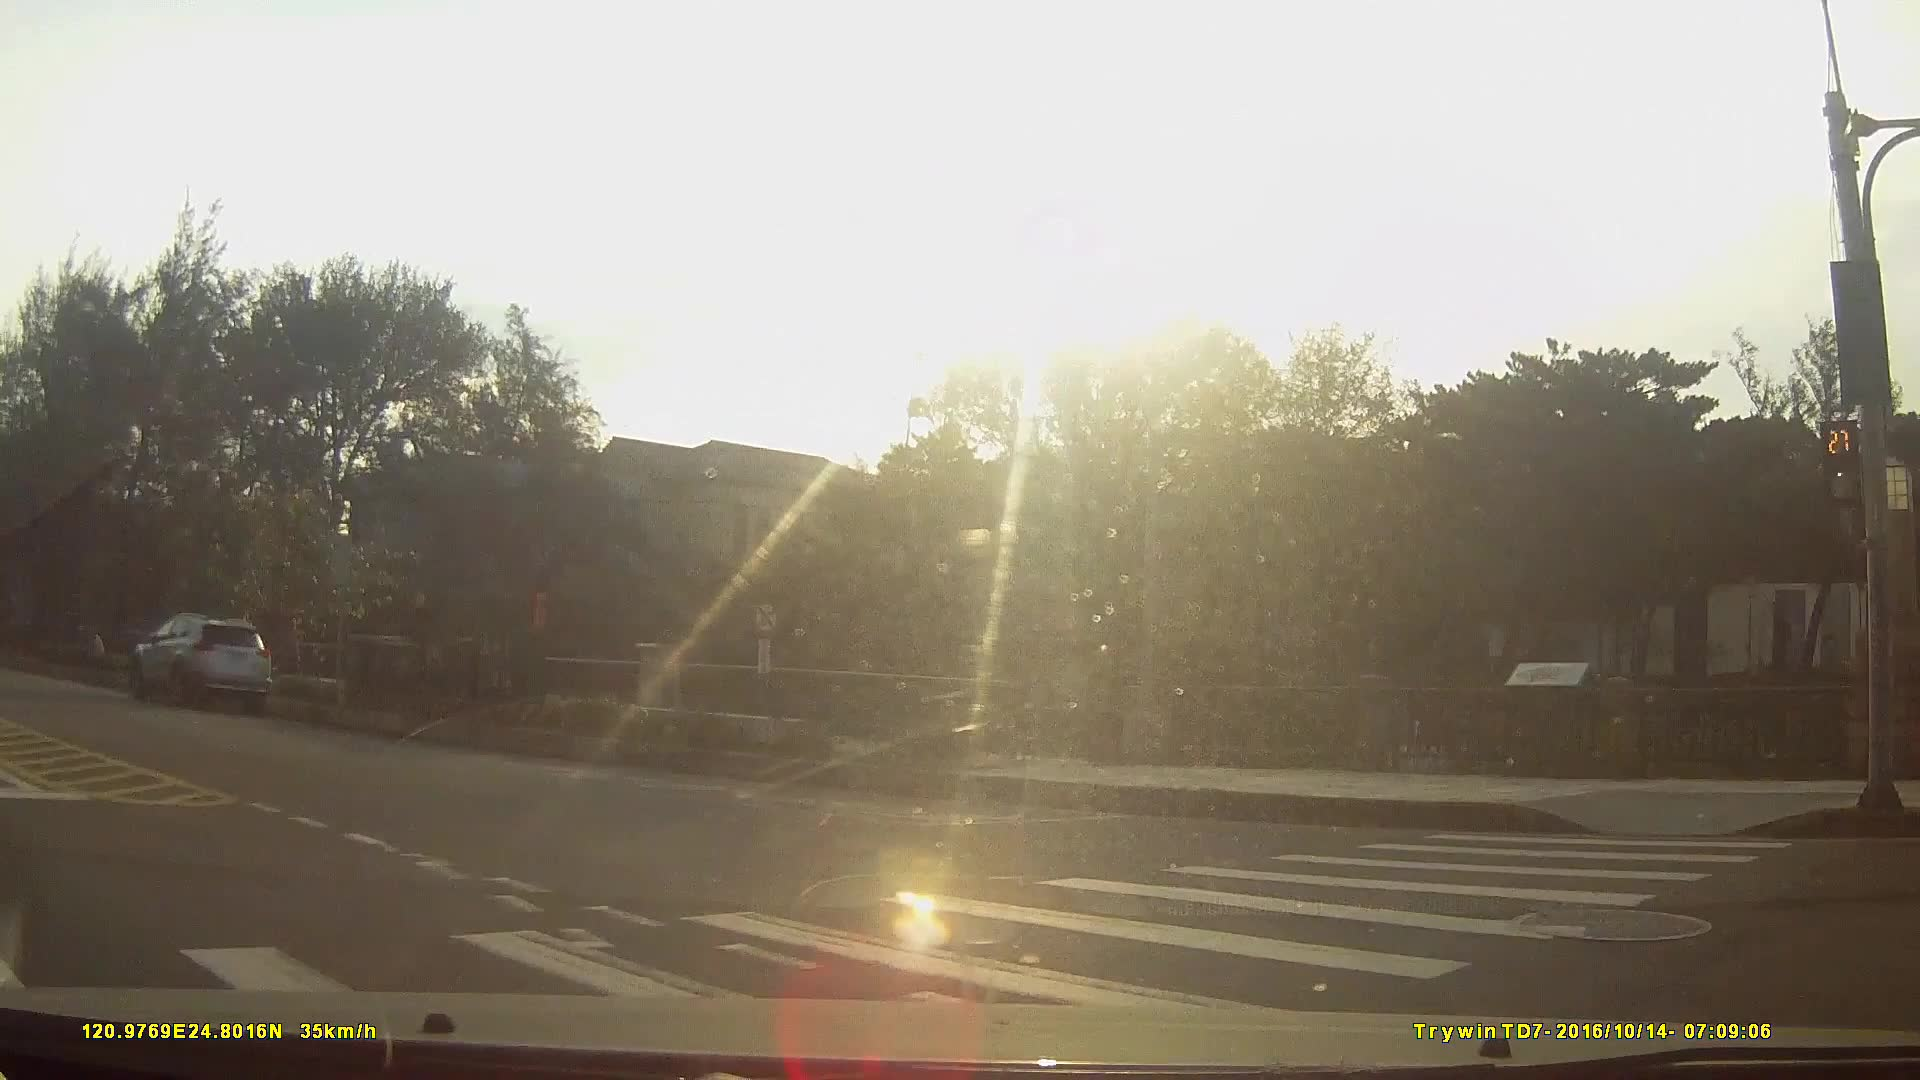vehicle: (128, 608, 270, 709)
